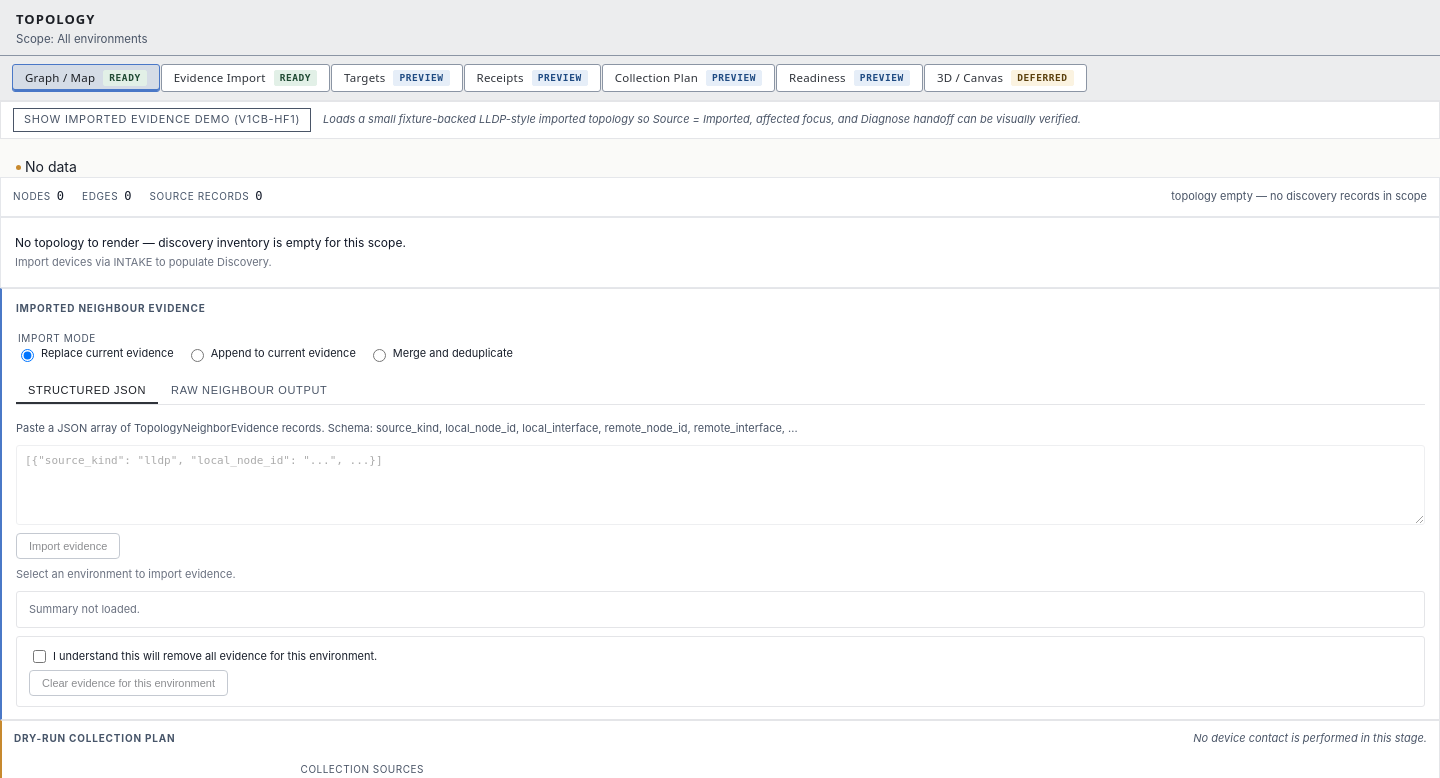
Test case: TopologyMode › TopologyMode — V1AP Raw neighbour output import (UI) › raw import button disabled when no environment
Click the tab with test id "tm-evidence-tab-raw": (249, 391) [159,378,340,404]
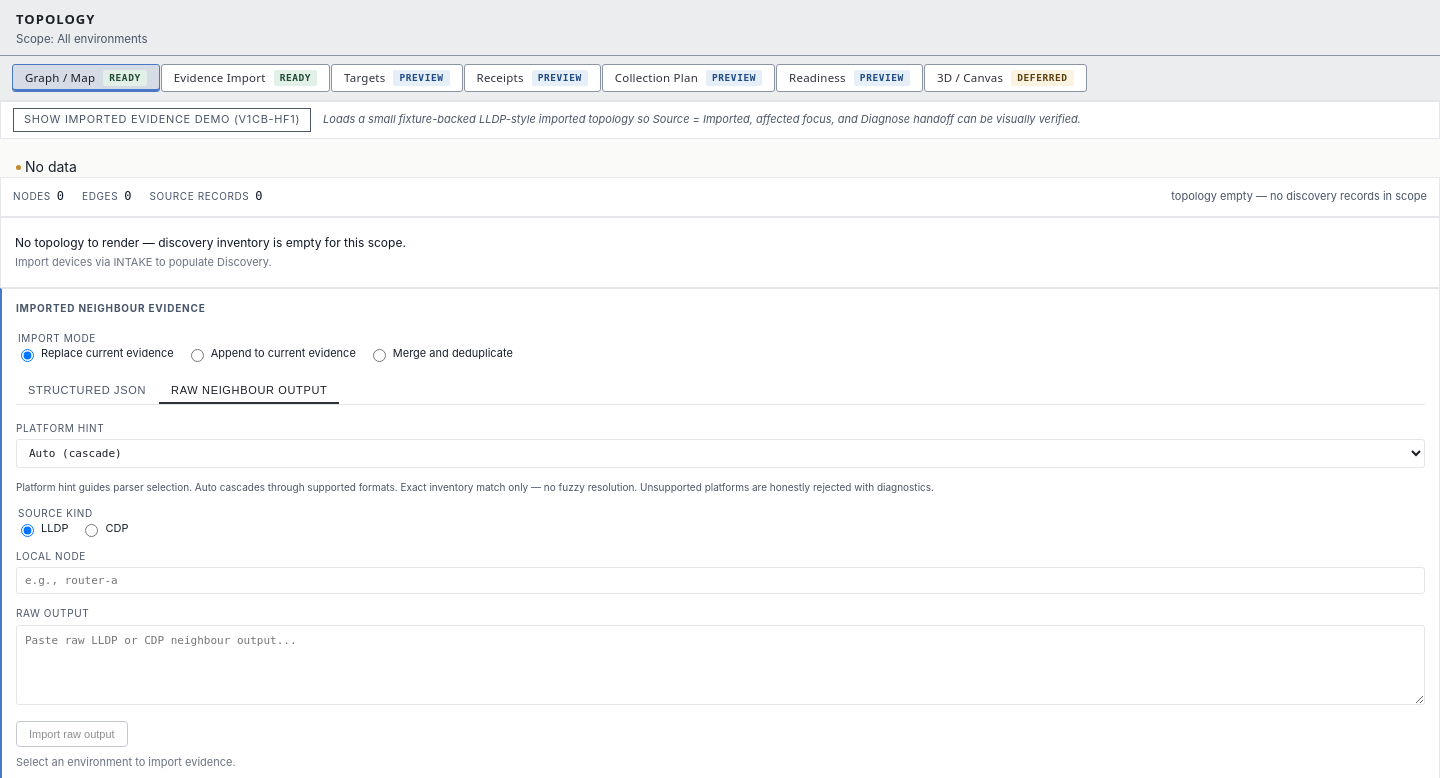
Check: the button with test id "tm-raw-import-button" is disabled, box [16,721,128,747]
